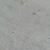others: (12, 1, 44, 38)
